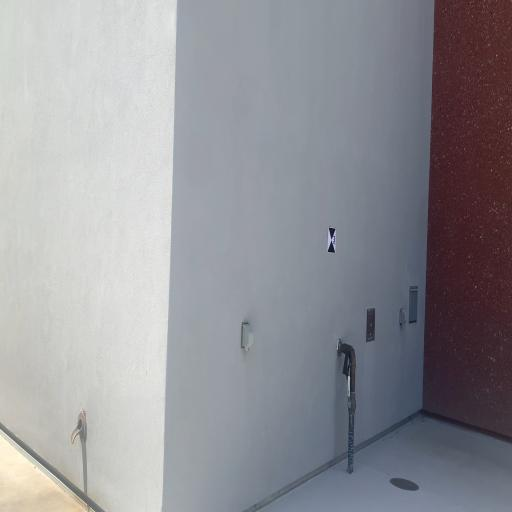target3: (327, 226, 336, 253)
